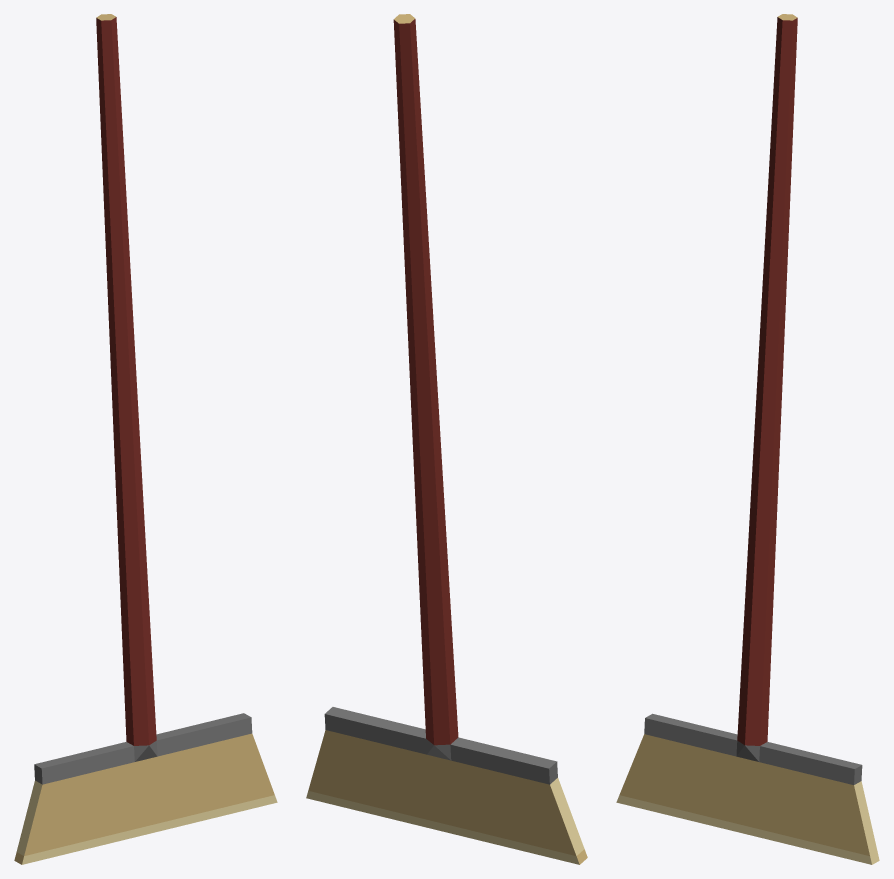
File: broom.dae
The picture shows the model from 3 angles, left to right: view 1: azimuth 30°, elevation 25°; view 2: azimuth 150°, elevation 25°; view 3: azimuth 330°, elevation 25°; orthographic projection. The views are drawn at different scales.
Parts seen in each view (by area): view 1: broom; view 2: broom; view 3: broom.
Boxes of the visible parts, <box> form: broom: <box>14,14,277,864</box>; broom: <box>306,14,587,864</box>; broom: <box>616,14,879,864</box>.
Bounding box in the file's own units: 0.9316 × 0.306 × 2.74.
1 material, 1 textured.
